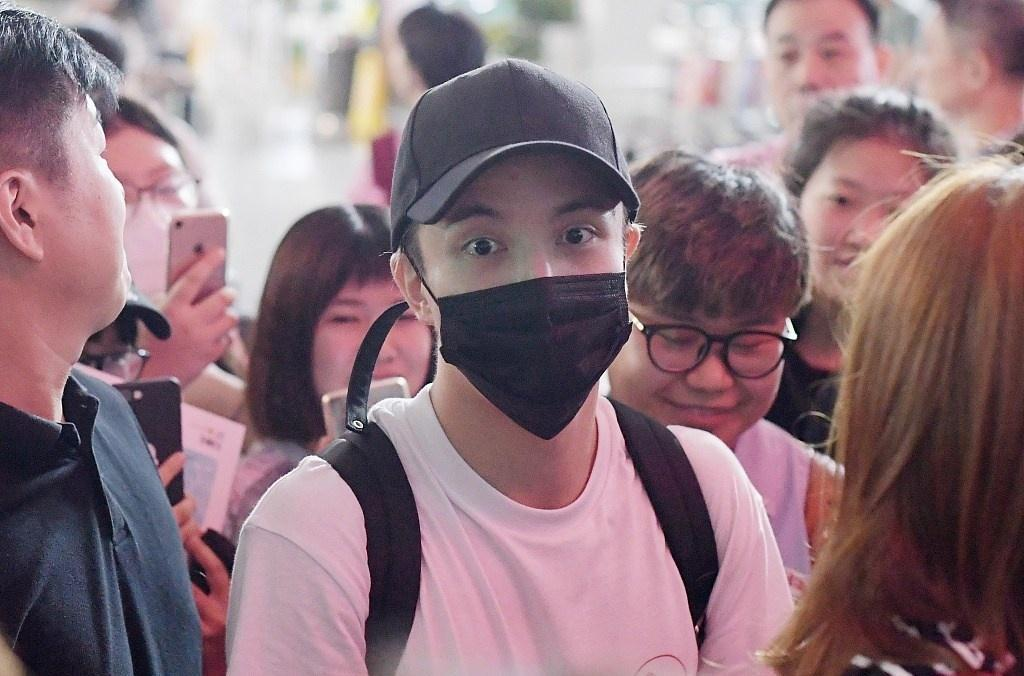NONE: (1, 129, 142, 336), (628, 304, 771, 446), (803, 161, 931, 298), (303, 284, 428, 408), (768, 24, 869, 136)
OK: (420, 186, 635, 401), (88, 163, 193, 291)
